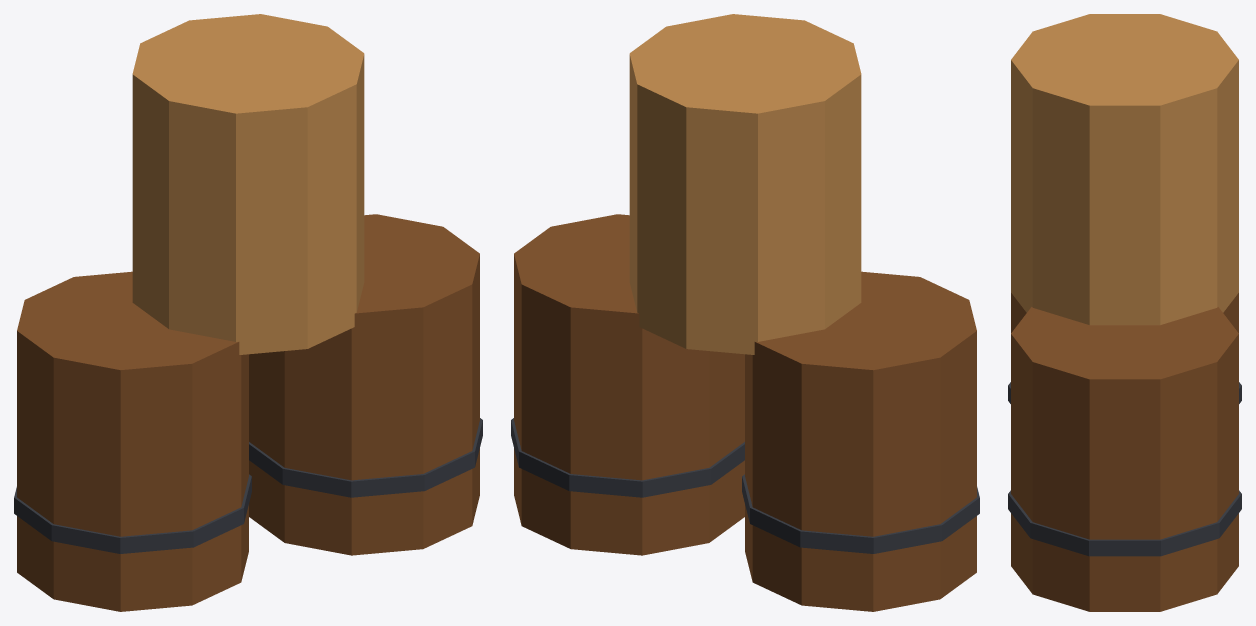
File: fish_barrel_stack.glb
The picture shows the model from 3 angles, left to right: view 1: azimuth 30°, elevation 25°; view 2: azimuth 150°, elevation 25°; view 3: azimuth 270°, elevation 25°; orthographic projection. The views are drawn at different scales.
Parts seen in each view (by area): view 1: fish_barrel_stack; view 2: fish_barrel_stack; view 3: fish_barrel_stack.
Part boxes in pixels (box(x1,y1,x2,y2)): fish_barrel_stack: box(14, 14, 482, 611); fish_barrel_stack: box(511, 14, 979, 611); fish_barrel_stack: box(1008, 14, 1241, 611).
Bounding box in the file's own units: 1.68 × 1.75 × 0.82.
